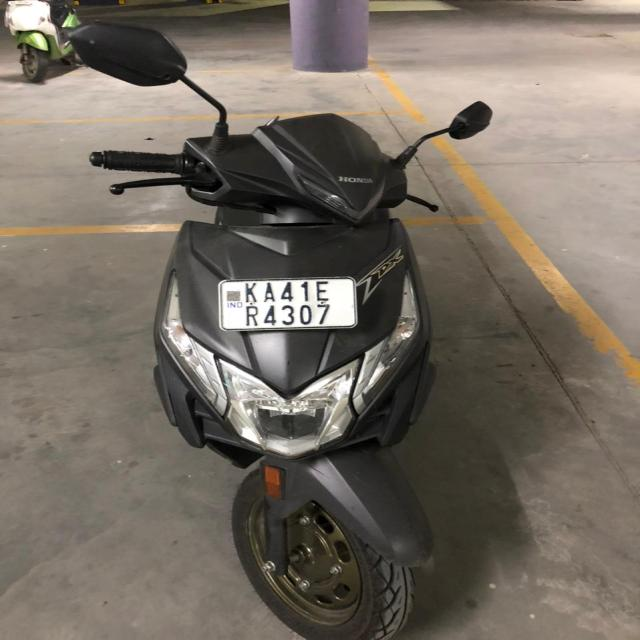number plate: (217, 276, 358, 332)
